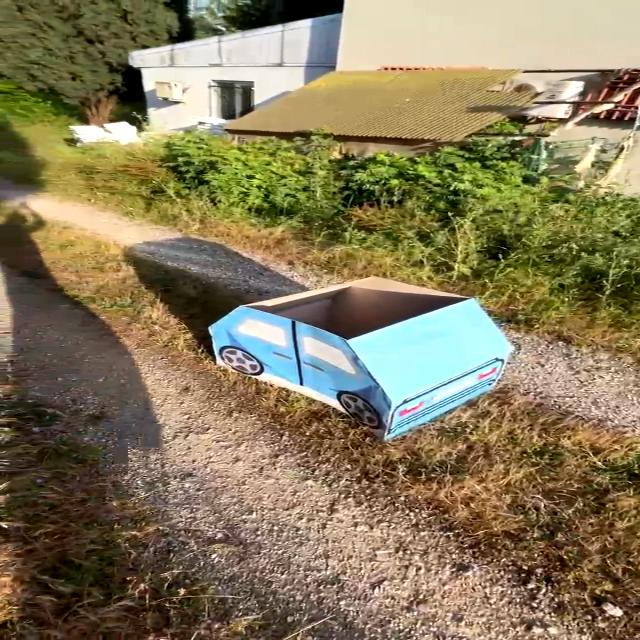blue_car: (172, 250, 533, 440)
